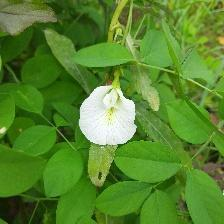shankupushpam: (79, 84, 139, 148)
